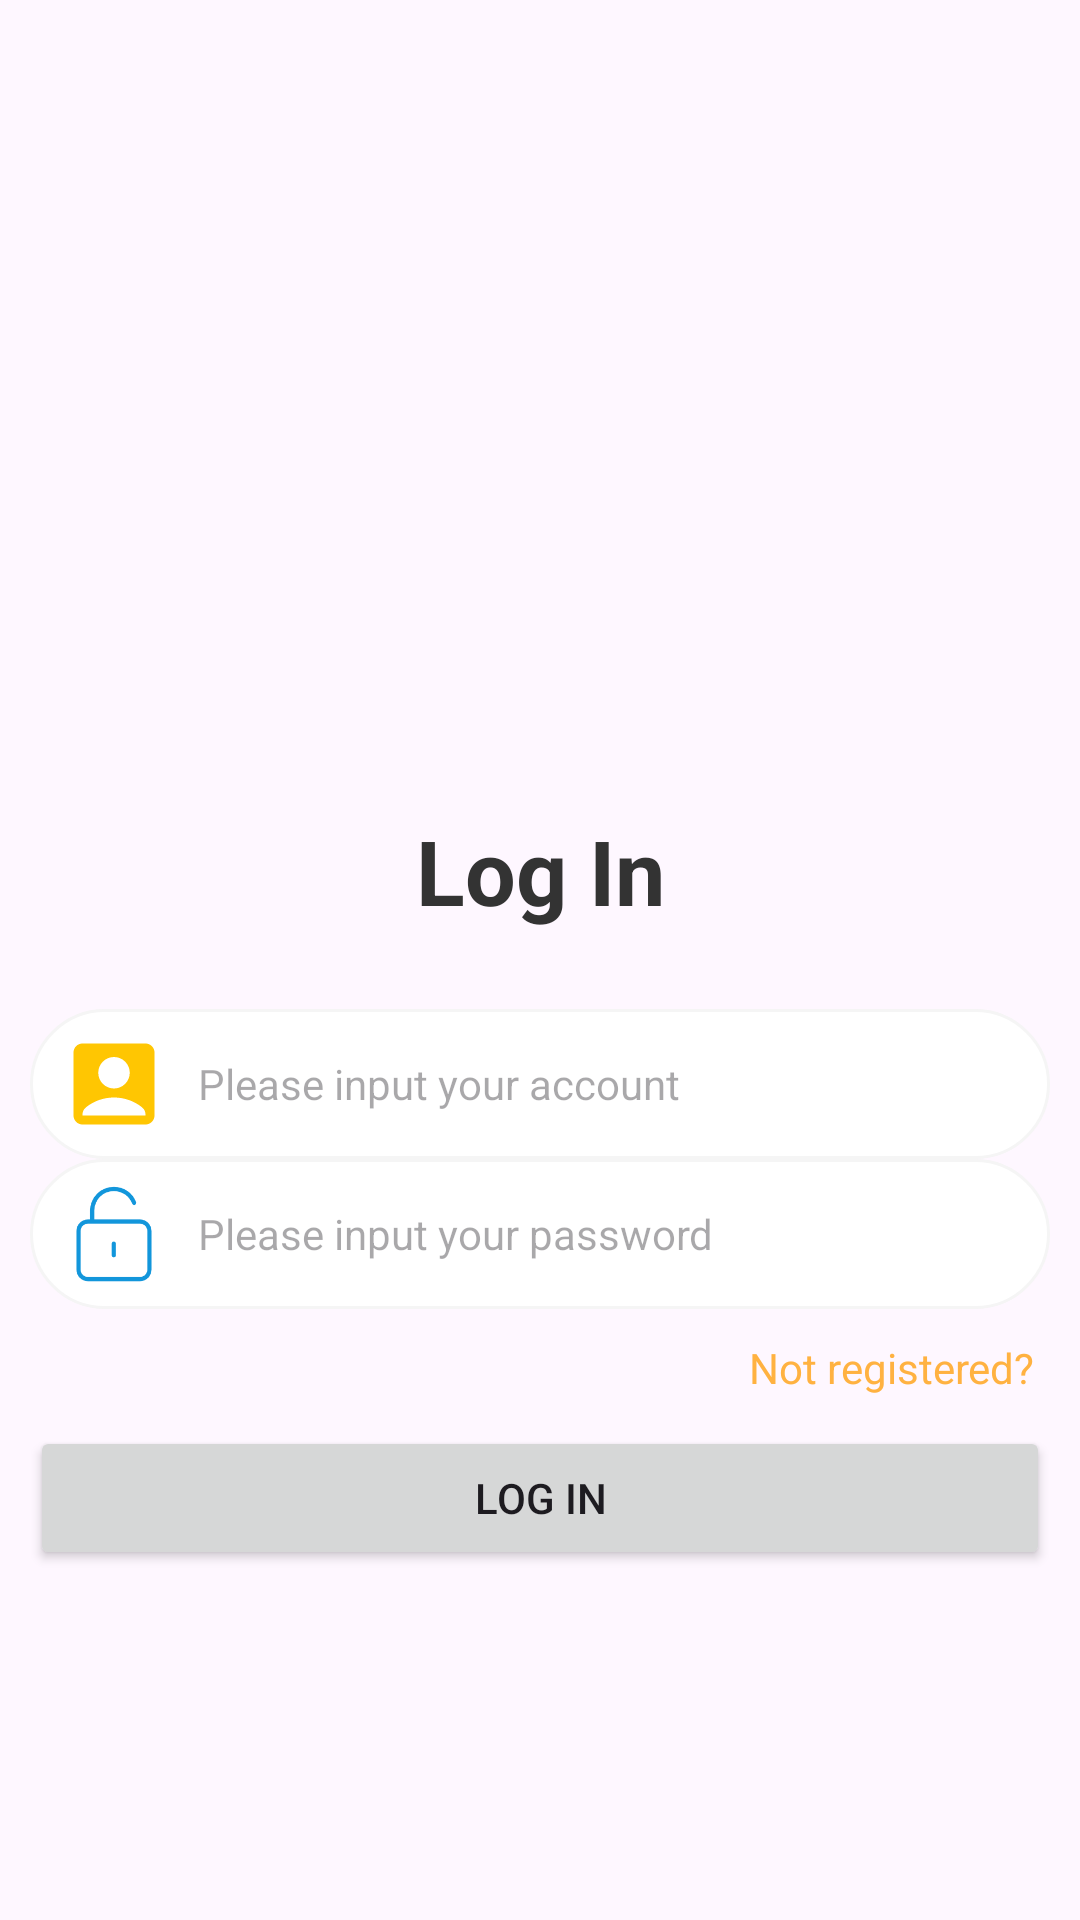

Point at icon controls on the screen. Image size 1080 x 1920, points as (x=x, y=y).
account box: (x=114, y=1084)
lock: (x=114, y=1234)
